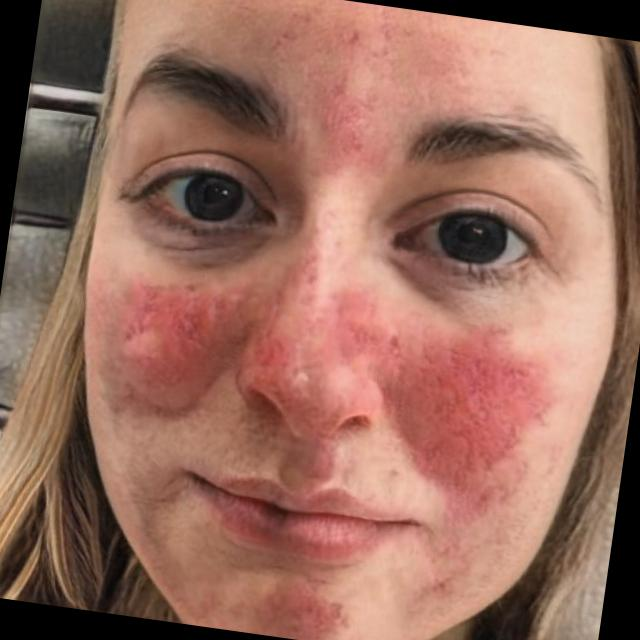redness: (114, 247, 564, 536), (310, 73, 388, 187), (254, 578, 355, 640), (396, 35, 483, 95)
